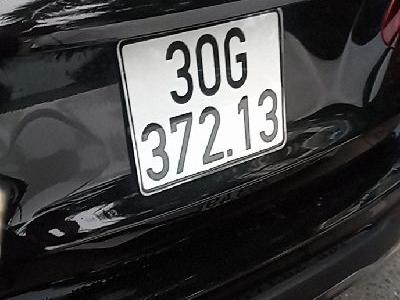lisence: (116, 5, 305, 198)
